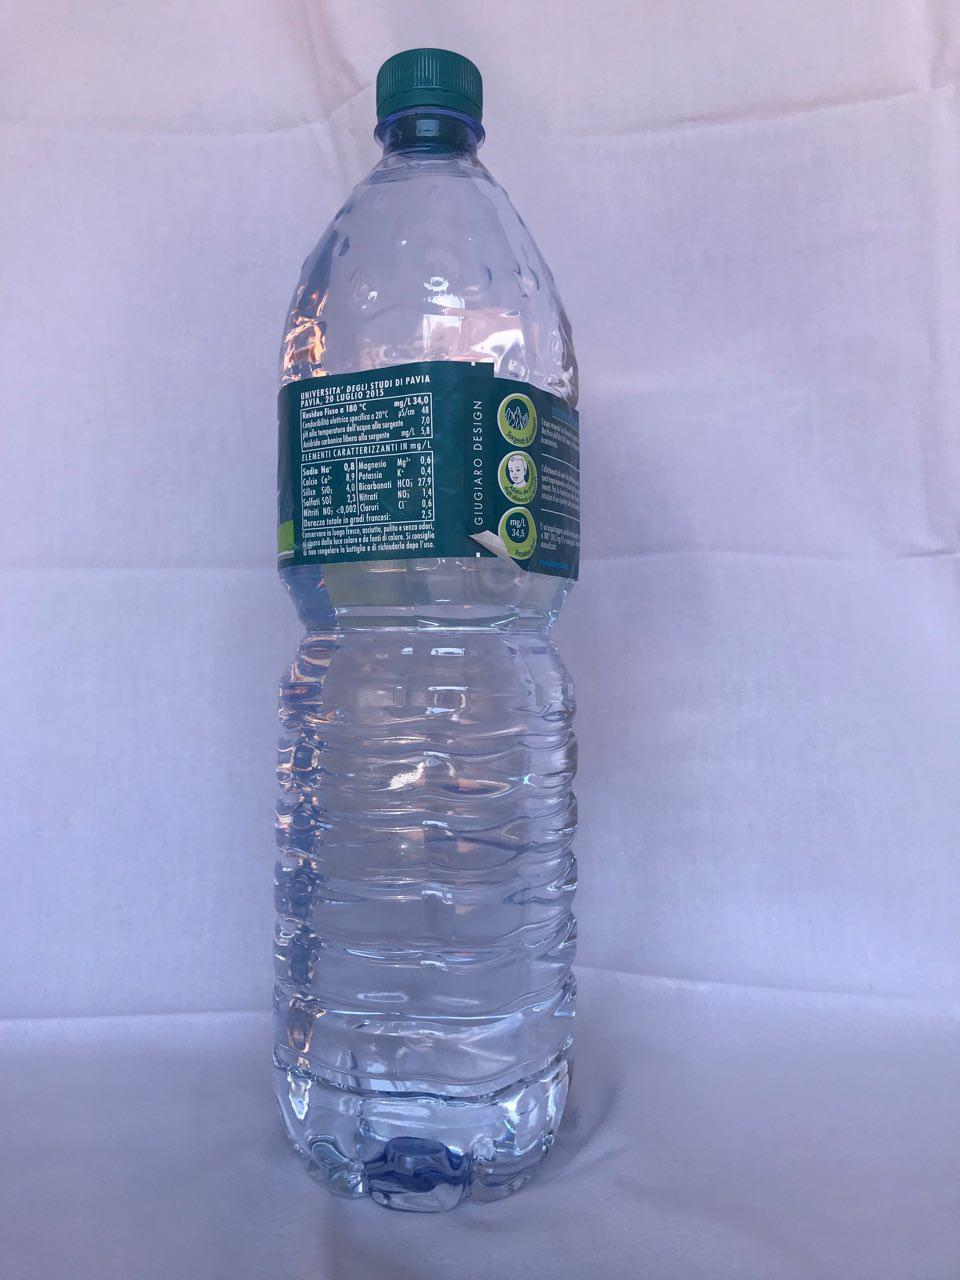san_bernardo: (269, 46, 582, 1215)
